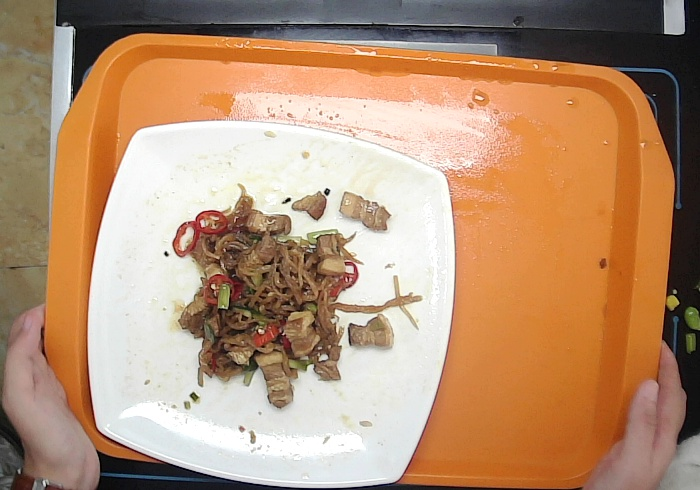ZNLD-Bai_Fang_Pan: (86, 119, 459, 490)
